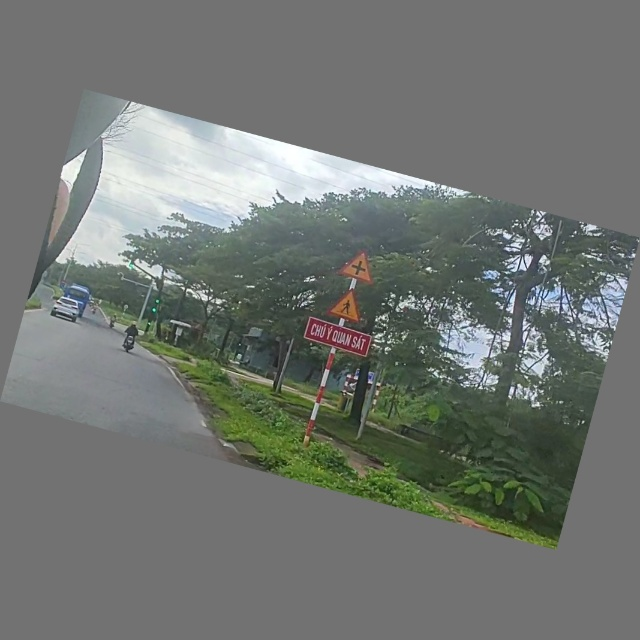W.205a: (338, 245, 385, 285)
W.224: (325, 283, 376, 325)
